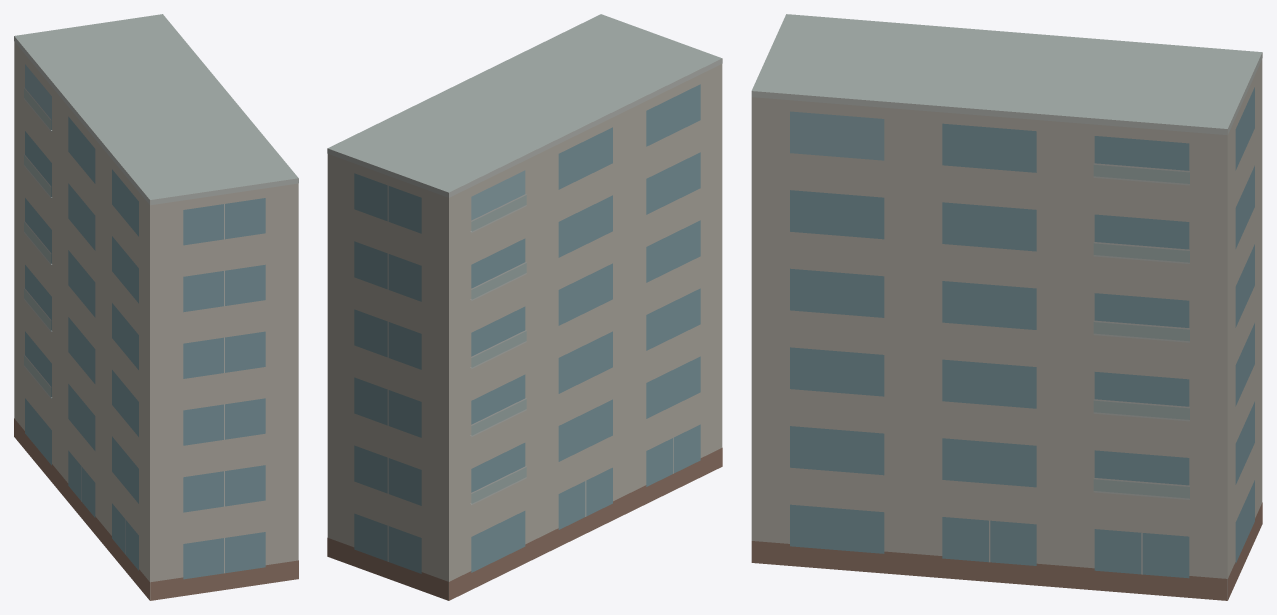
The model's file is survey-upis-32929070.glb.
3 renders of one model, left to right at view 1: azimuth 30°, elevation 25°; view 2: azimuth 150°, elevation 25°; view 3: azimuth 270°, elevation 25°, orthographic. The views are drawn at different scales.
Parts seen in each view (by area): view 1: survey-upis-32929070.tmp; view 2: survey-upis-32929070.tmp; view 3: survey-upis-32929070.tmp.
Boxes of the visible parts, left/top/right/bottom form: survey-upis-32929070.tmp: left=14, top=14, right=298, bottom=600; survey-upis-32929070.tmp: left=327, top=14, right=722, bottom=600; survey-upis-32929070.tmp: left=751, top=14, right=1262, bottom=600.
Bounding box in the file's own units: 9.81 × 18.75 × 18.41.
